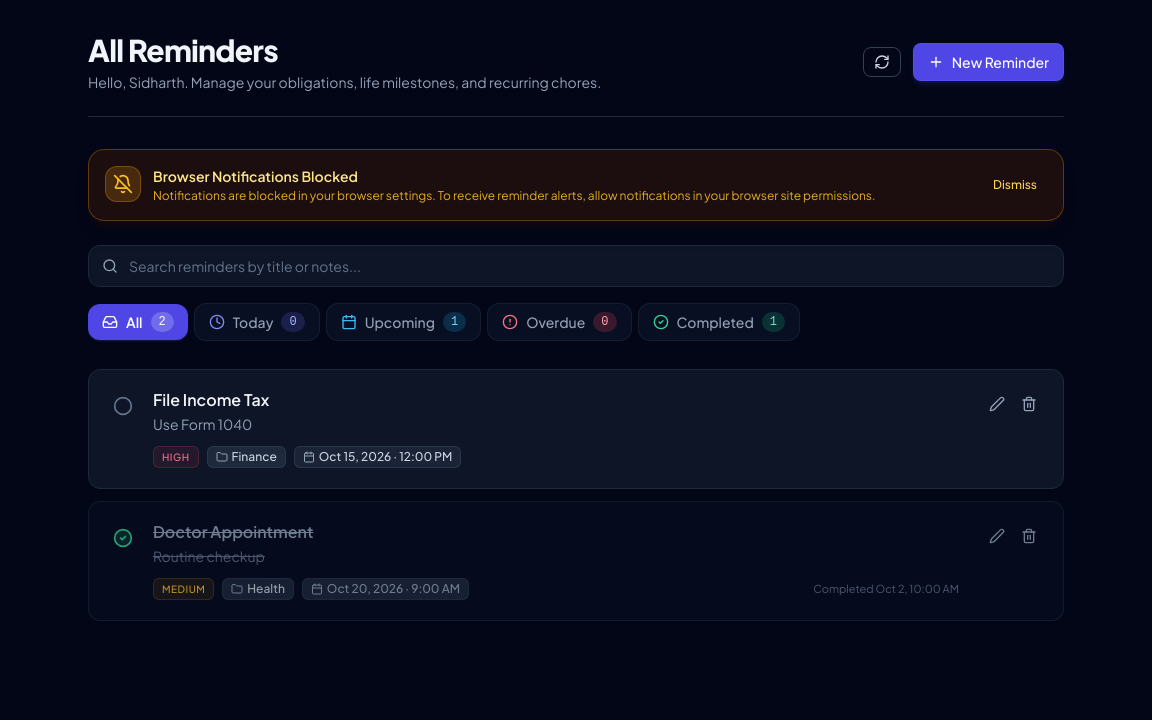
DashboardPage component › opens and closes create reminder modal
Expected: the heading "File Income Tax" is shown, left=153, top=390, right=269, bottom=410
Step 1. Click the button "New Reminder" → (988, 62), box left=913, top=43, right=1064, bottom=81
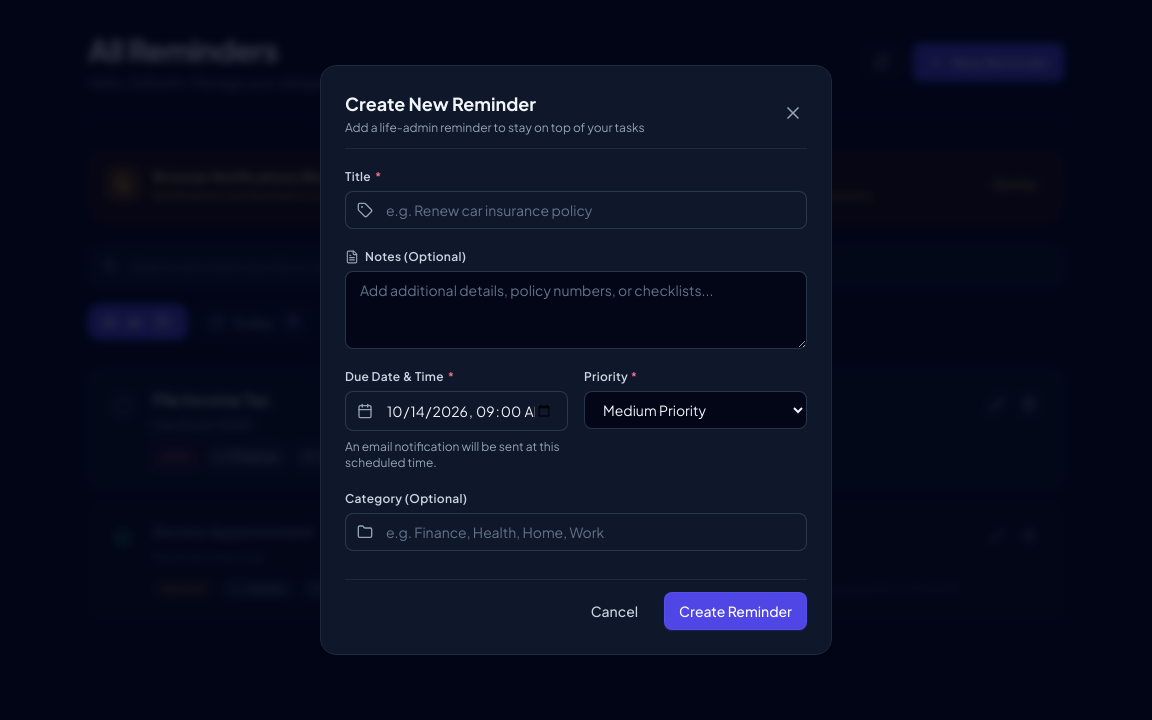
Expected: the heading "Create New Reminder" is shown, left=345, top=92, right=536, bottom=115
Step 2. Click the button "Cancel" → (614, 611), box left=577, top=593, right=652, bottom=629
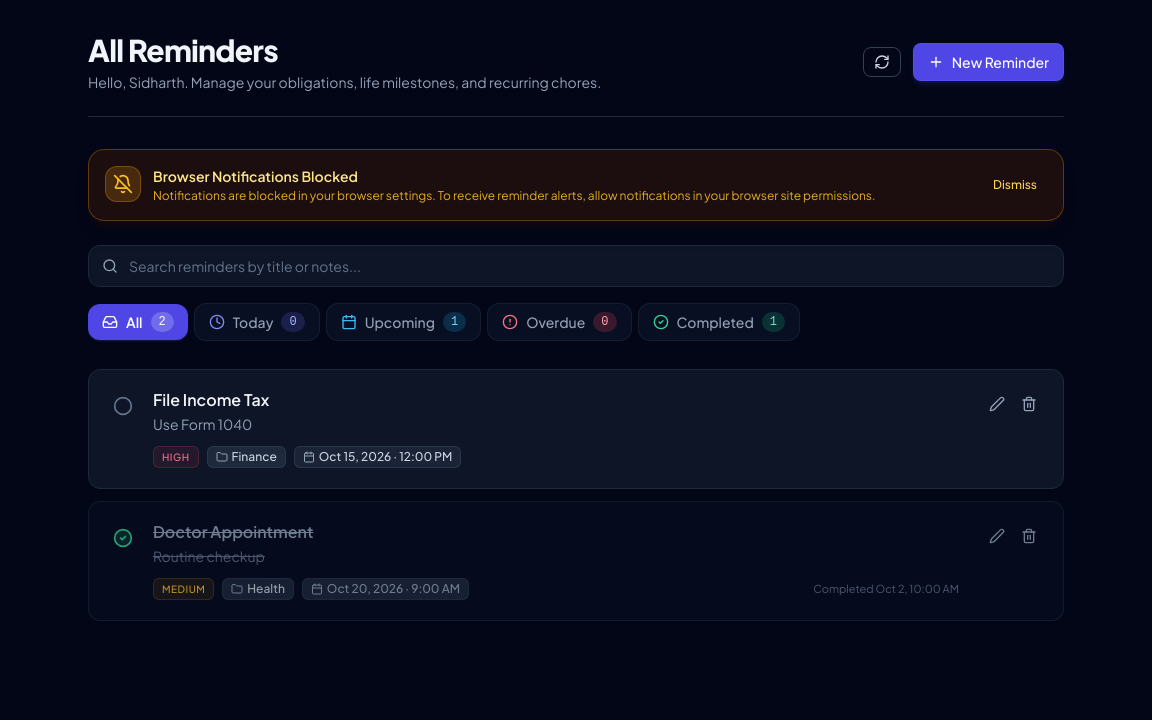
Expected: the heading "Create New Reminder" is gone
